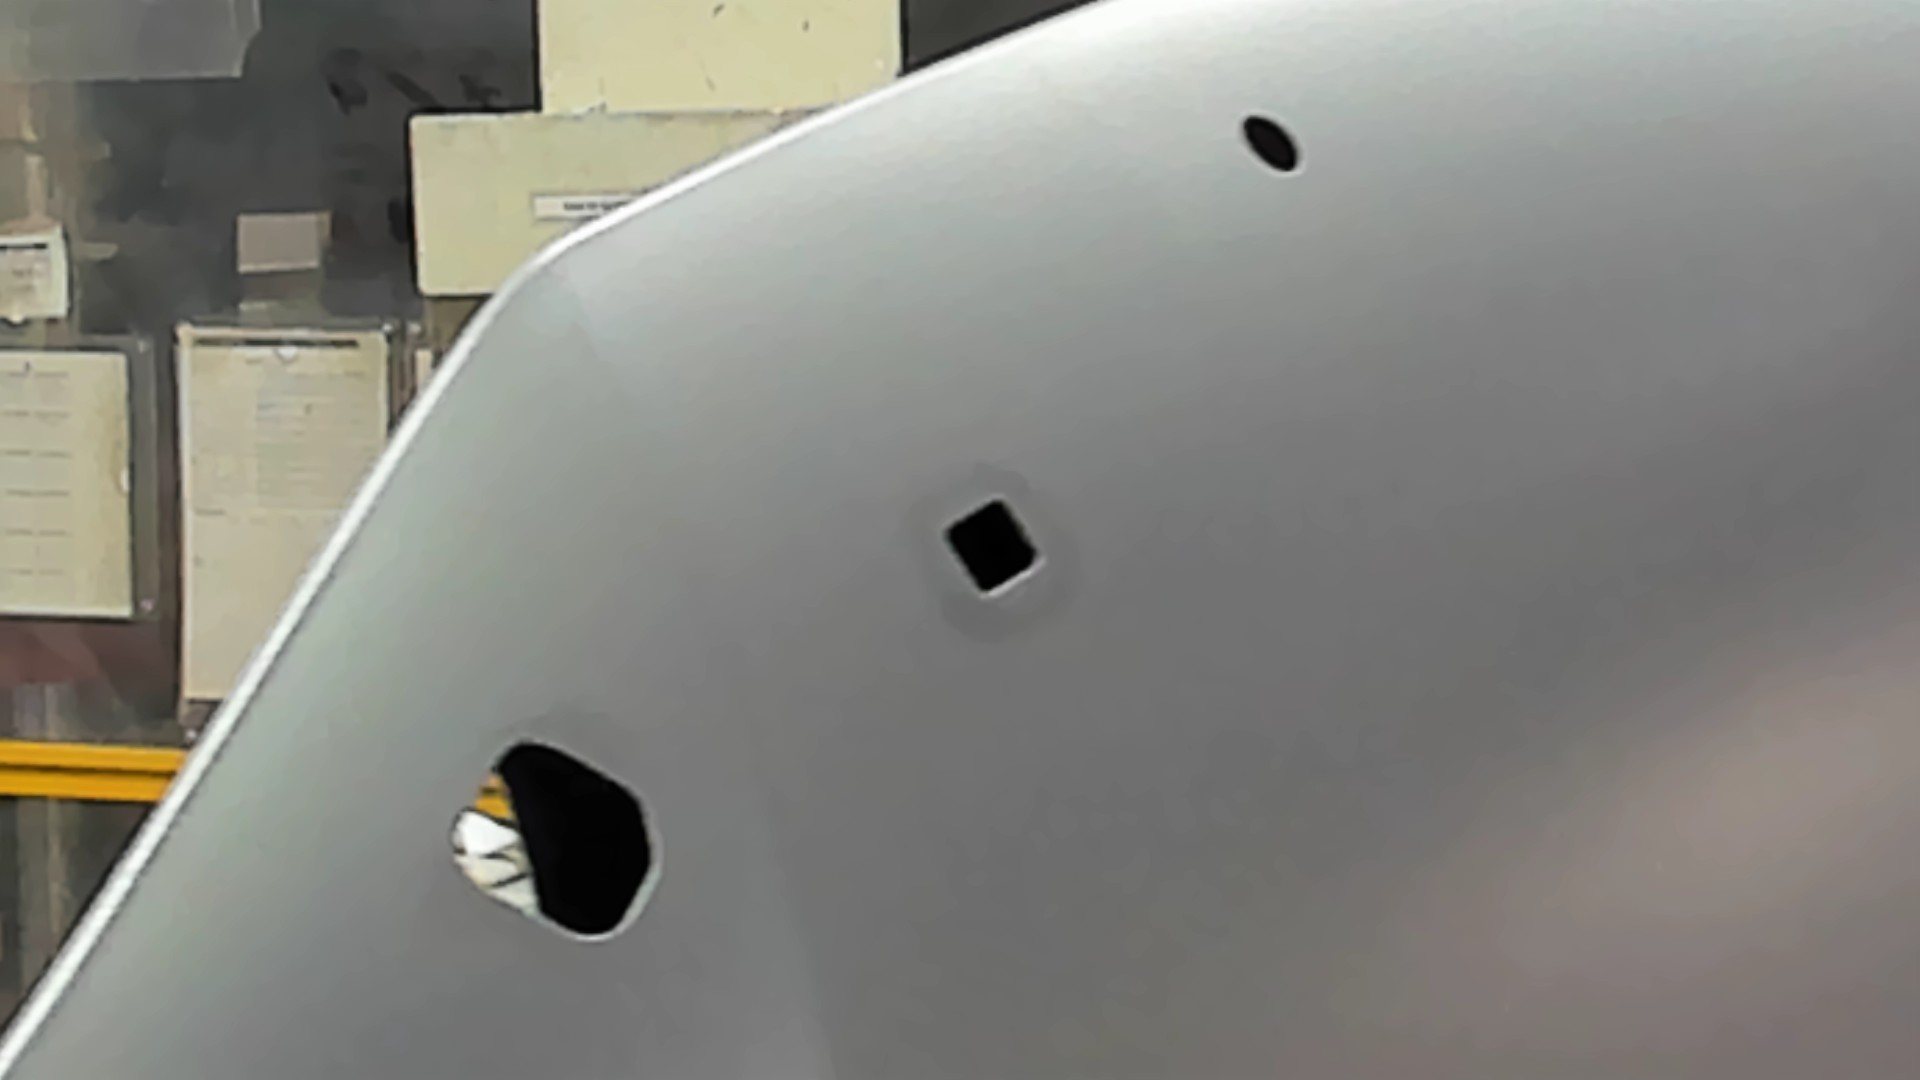chico: (1233, 109, 1307, 179)
grande: (440, 731, 669, 949)
mediano: (932, 491, 1051, 601)
